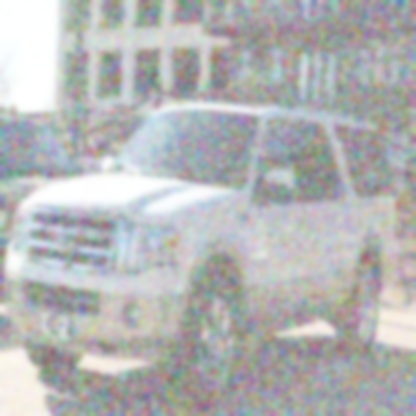Vehicle: (5, 104, 399, 410)
